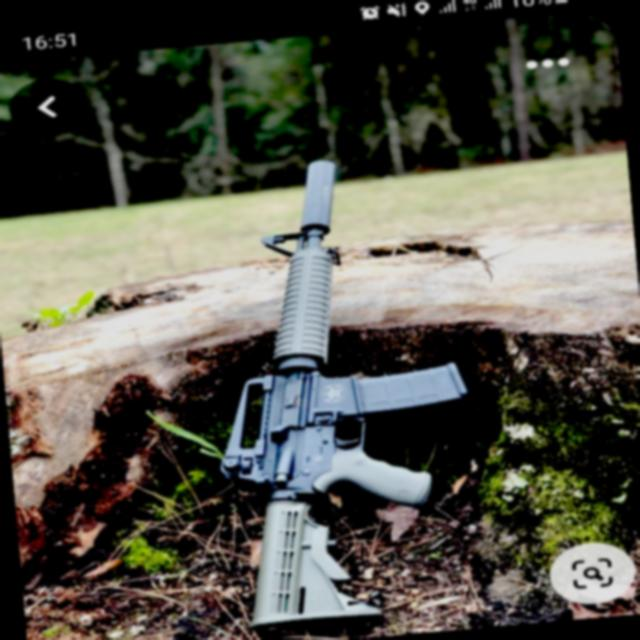m16: (210, 148, 501, 530)
